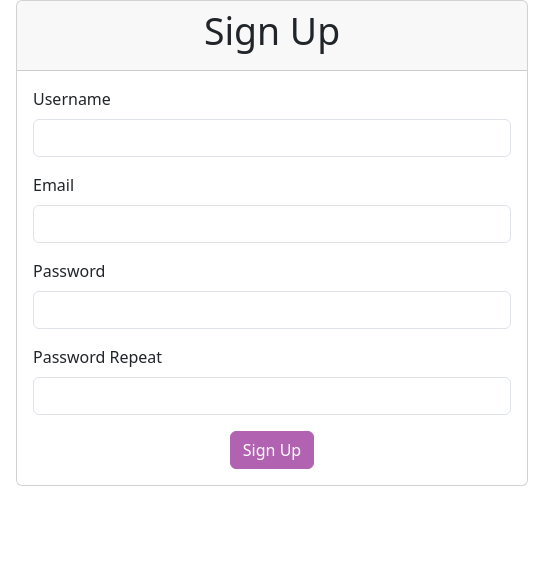
it: Sign Up › when user sets same value for password inputs › when user submits form › when network failure occurs › displays generic message
This screenshot has width=545, height=577.
In the field labelled "Username": (272, 138) [33, 119, 511, 157], type "user1"
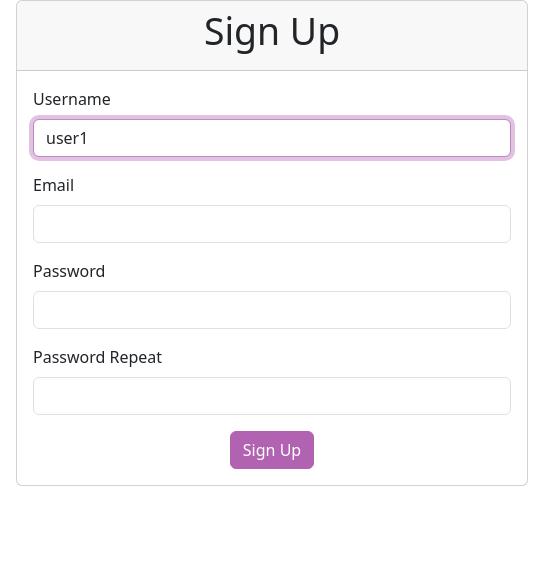
In the field labelled "Email": (272, 224) [33, 205, 511, 243], type "user123@mail.com"
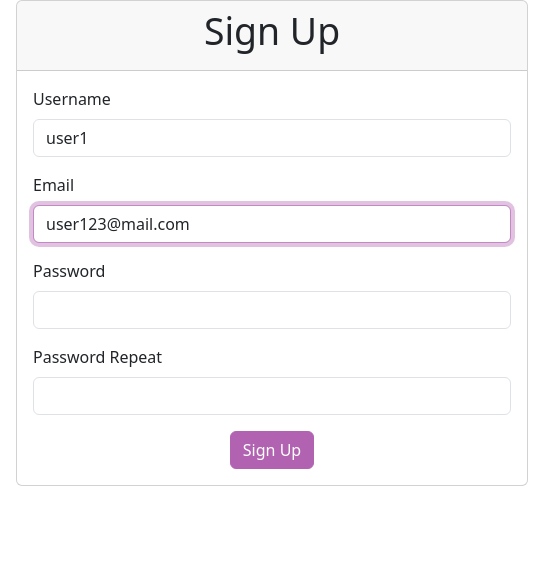
In the password field labelled "Password": (272, 310) [33, 291, 511, 329], type "Password1"
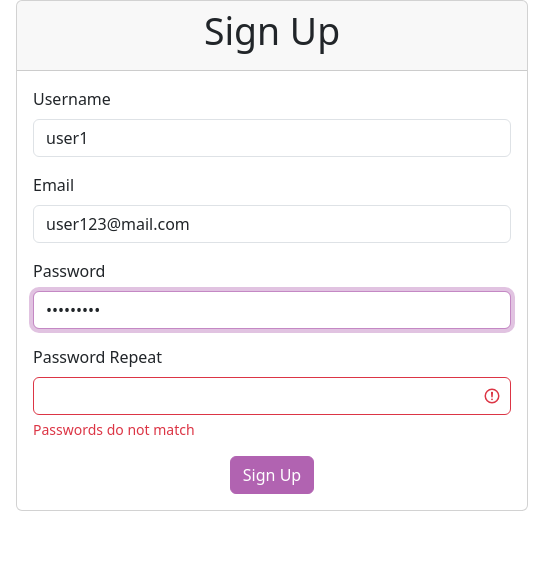
In the password field labelled "Password Repeat": (272, 396) [33, 377, 511, 415], type "Password1"
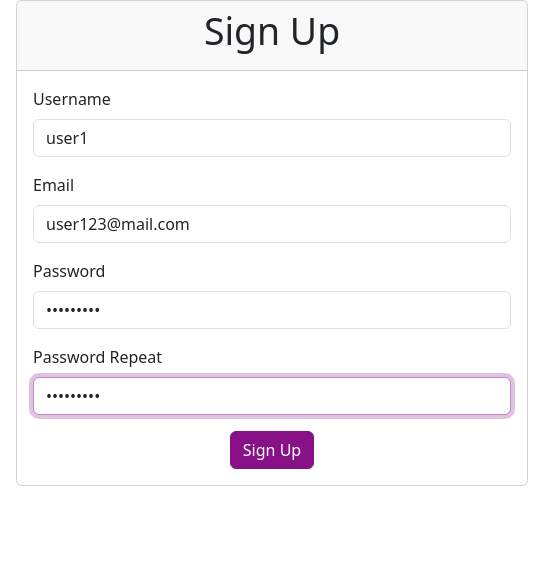
Click the button "Sign Up": (272, 450) [230, 431, 314, 469]
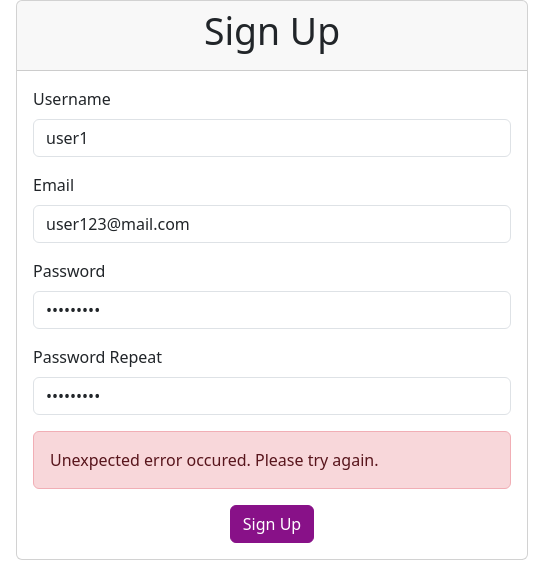
Result: the text "Unexpected error occured. Please try again." is shown at [33, 431, 511, 489]
